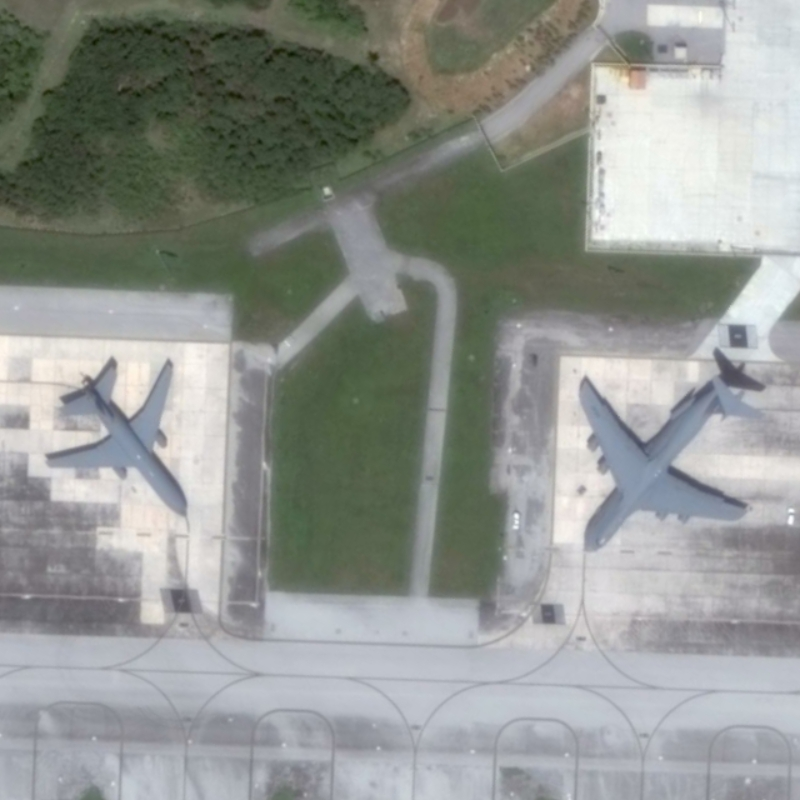A18: (39, 353, 193, 524)
A4: (570, 361, 768, 561)
